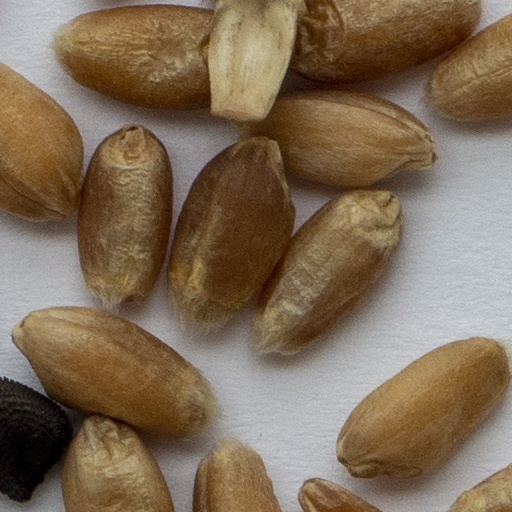Agrostemma-poly: (0, 375, 71, 511)
Peel-poly: (208, 0, 297, 122)
Wheat-grain-damaged-poly: (61, 416, 173, 511)
